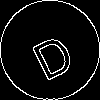D: (25, 25, 78, 82)
